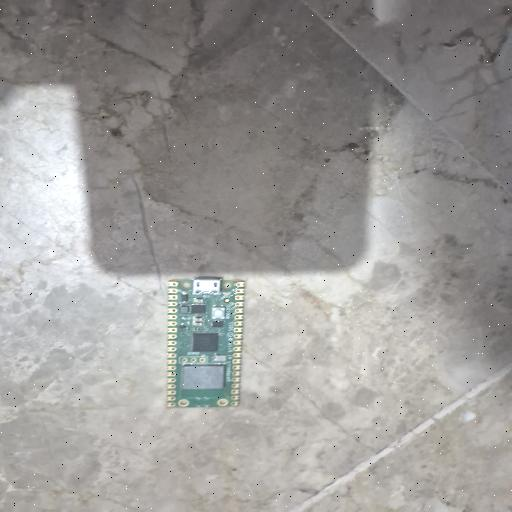raspberry-pi-pico-w: (167, 278, 244, 408)
